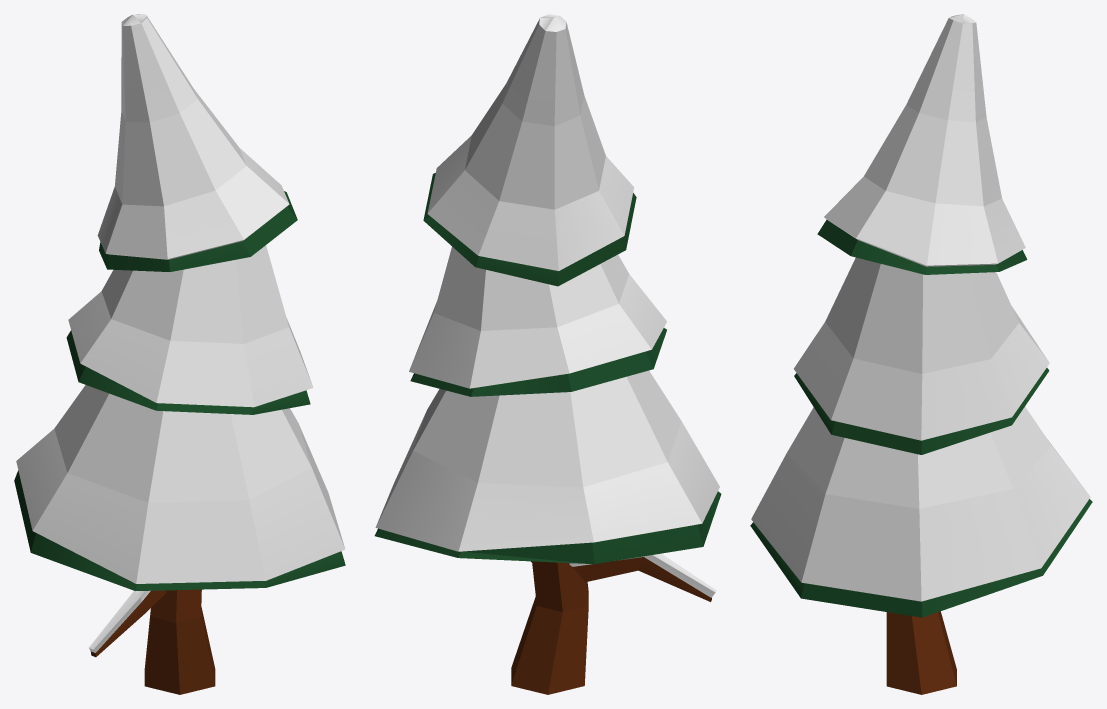
File: Winter_016.fbx
3 views of the same model, side by side, from view 1: azimuth 30°, elevation 25°; view 2: azimuth 150°, elevation 25°; view 3: azimuth 270°, elevation 25° (orthographic). The views are drawn at different scales.
Parts seen in each view (by area): view 1: Winter_016; view 2: Winter_016; view 3: Winter_016.
Part boxes in pixels (<box>): Winter_016: <box>14,14,345,694</box>; Winter_016: <box>374,14,721,694</box>; Winter_016: <box>750,14,1092,694</box>.
Bounding box in the file's own units: 1.8 × 3.78 × 1.8.
